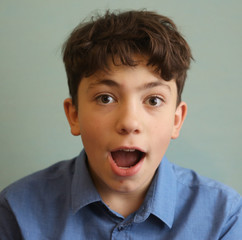teen: (64, 22, 188, 196)
